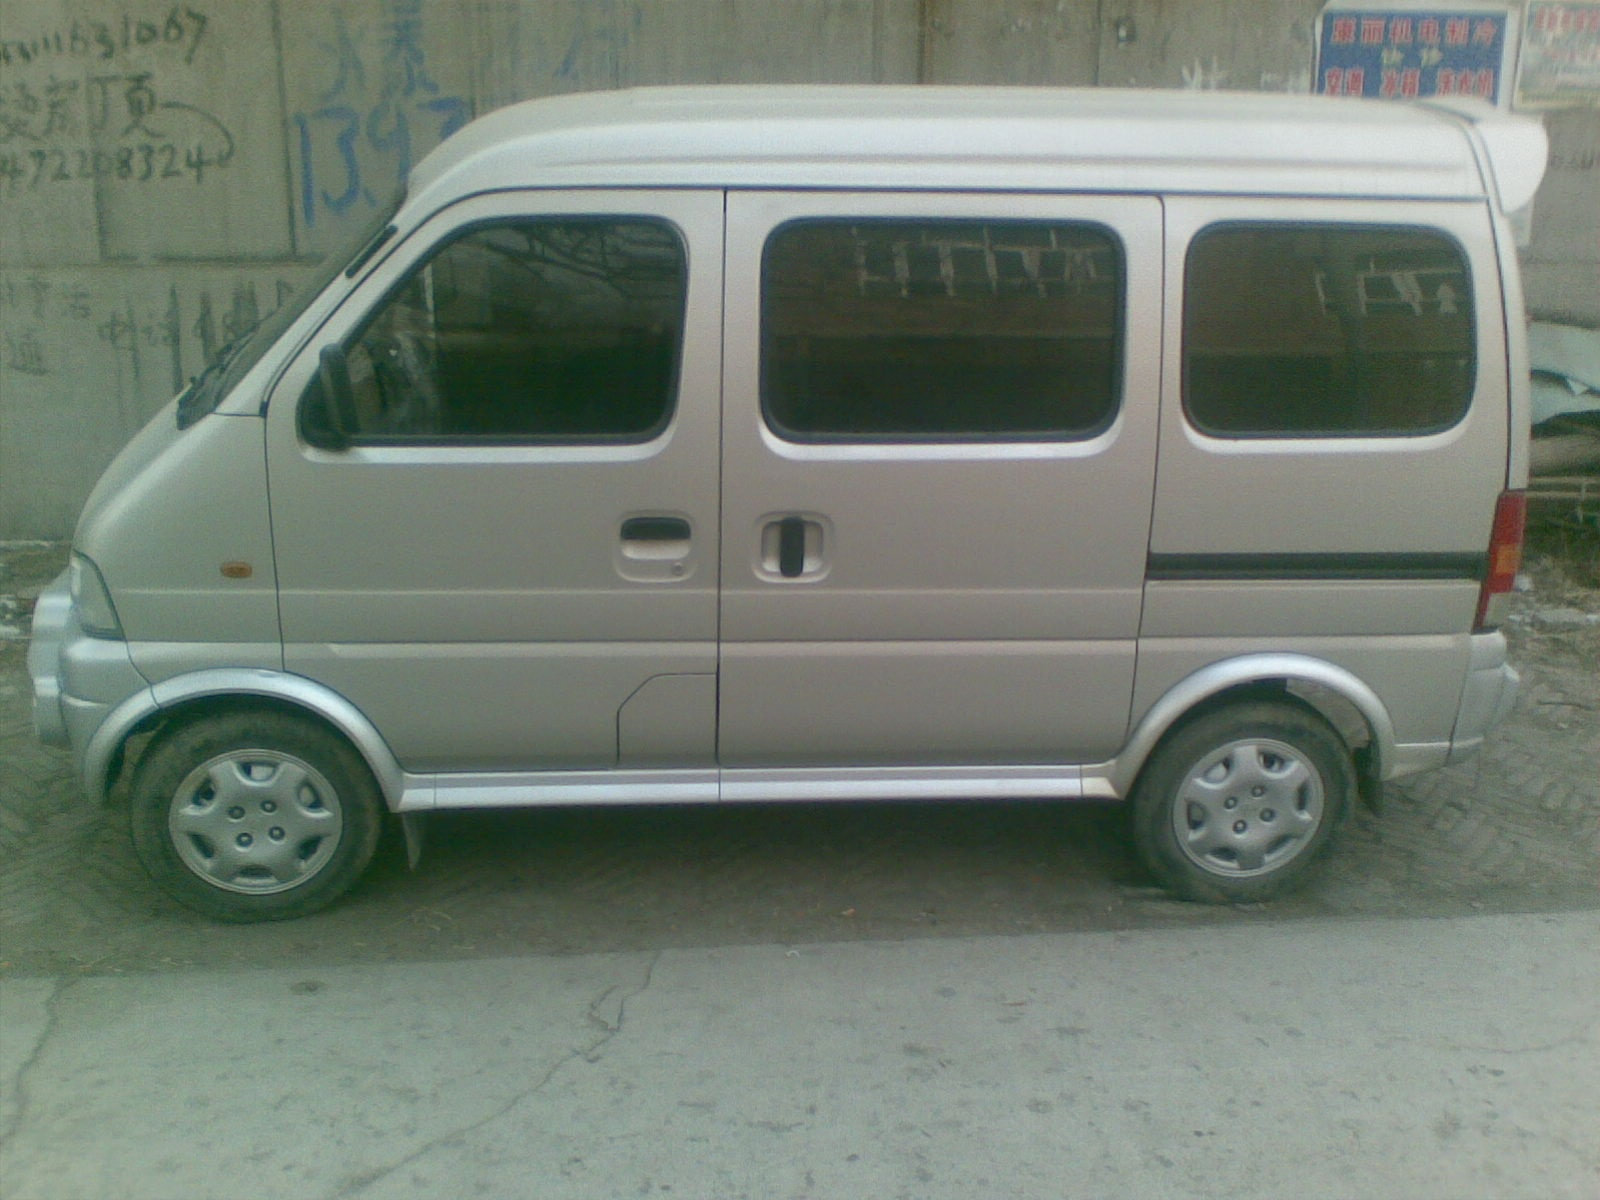minibus: (67, 83, 1529, 1000)
